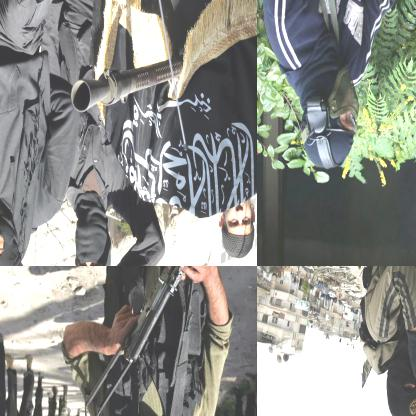rifle: (78, 266, 237, 415), (69, 50, 187, 114)
